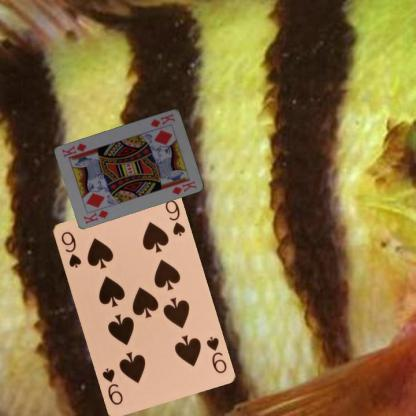9s: (57, 228, 83, 269), (203, 334, 228, 374)
Kd: (81, 208, 110, 226), (148, 111, 176, 128)
